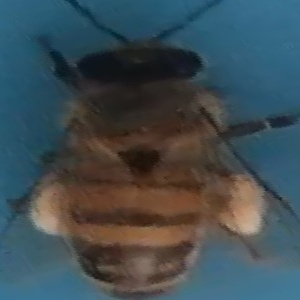bee: (38, 1, 295, 299)
